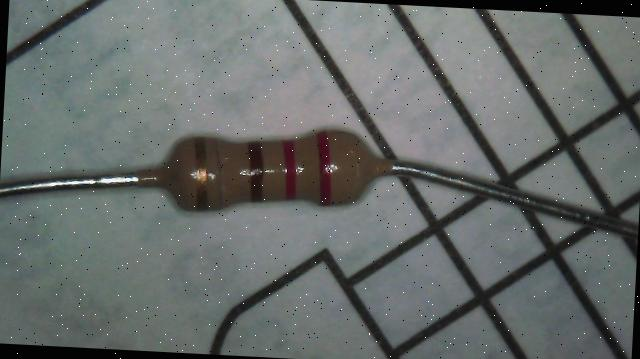brown: (247, 140, 264, 204)
gold: (192, 136, 210, 213)
red: (316, 130, 334, 205), (282, 139, 299, 198)
resistor: (142, 110, 400, 228)
